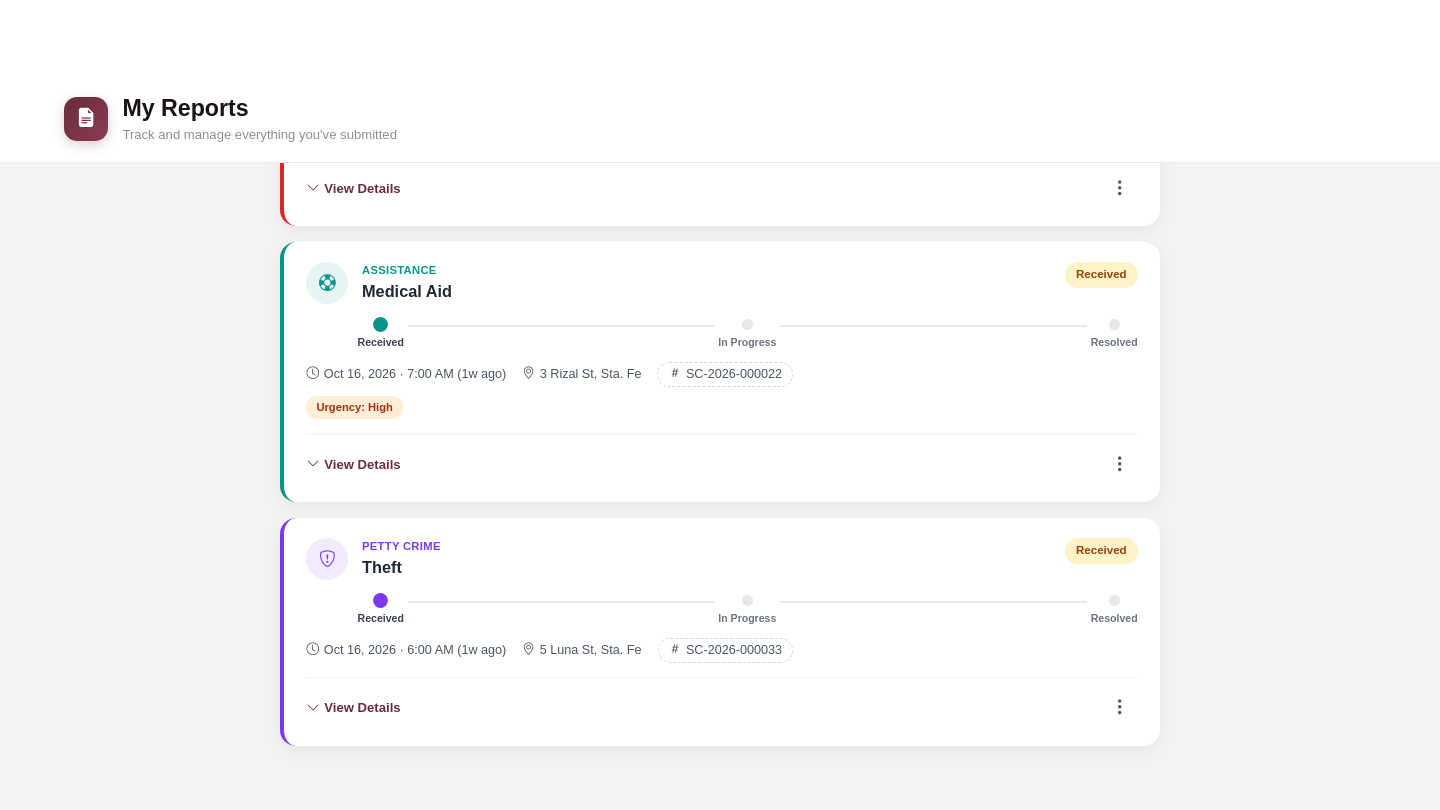
Three-dot menu › closes when clicking the button again, clicking outside, or pressing Esc
This screenshot has width=1440, height=810.
(page scrolled)
Click the 3rd button named "More options". click: (1120, 708)
box: x1=1102 y1=690 x2=1138 y2=726
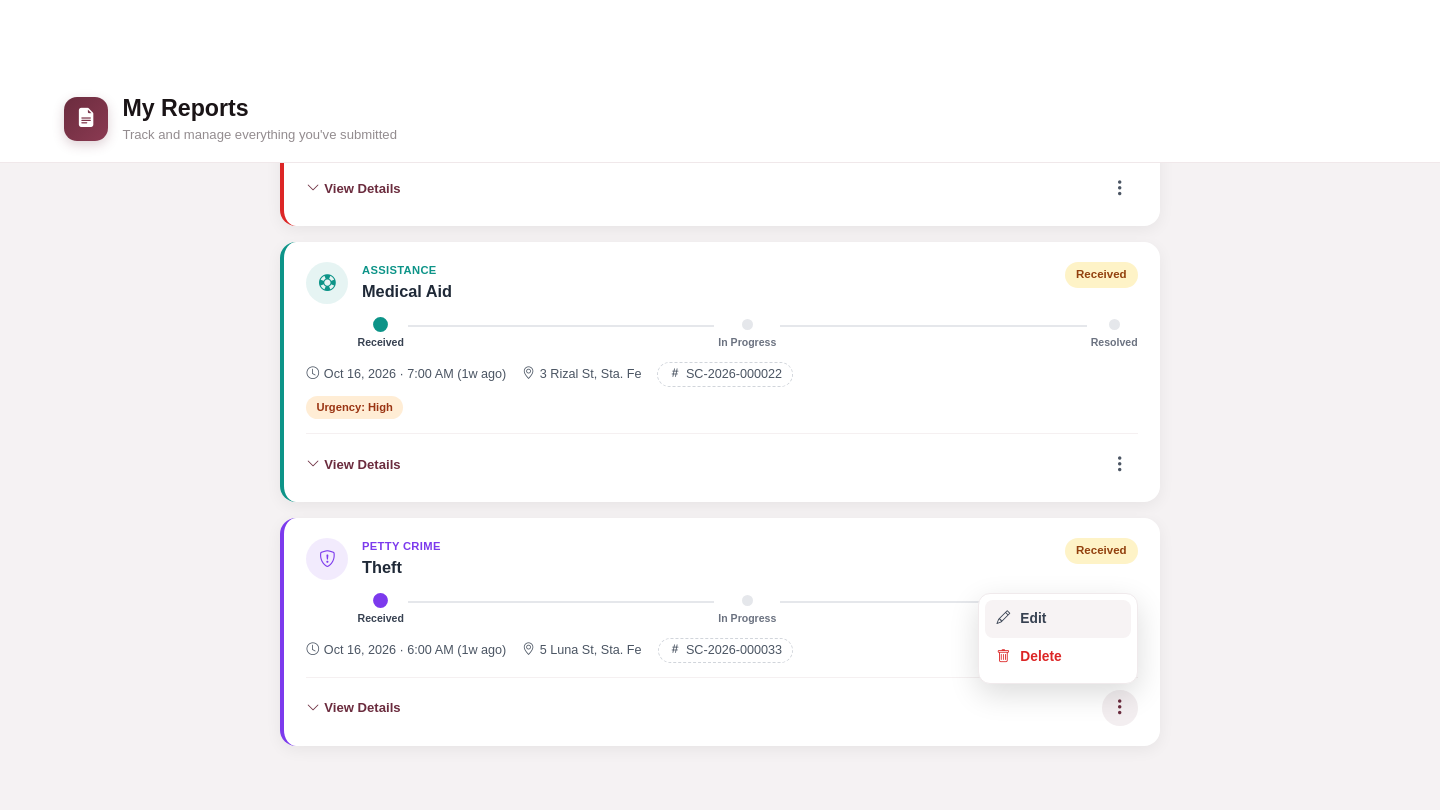
Click the 3rd button named "More options". click: (1120, 708)
box: x1=1102 y1=690 x2=1138 y2=726
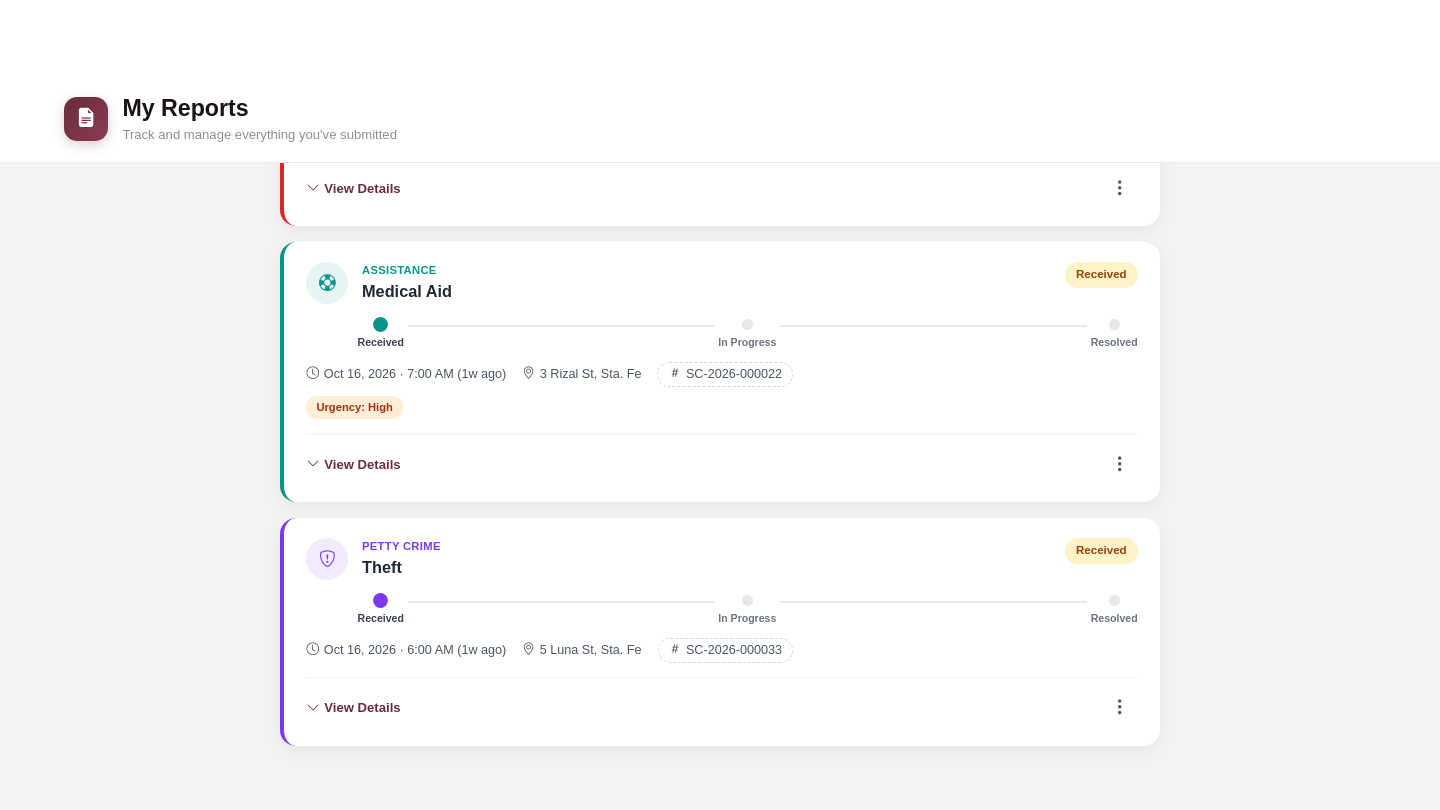
Expected: the menu is gone
Click the 3rd button named "More options". click: (1120, 708)
box: x1=1102 y1=690 x2=1138 y2=726
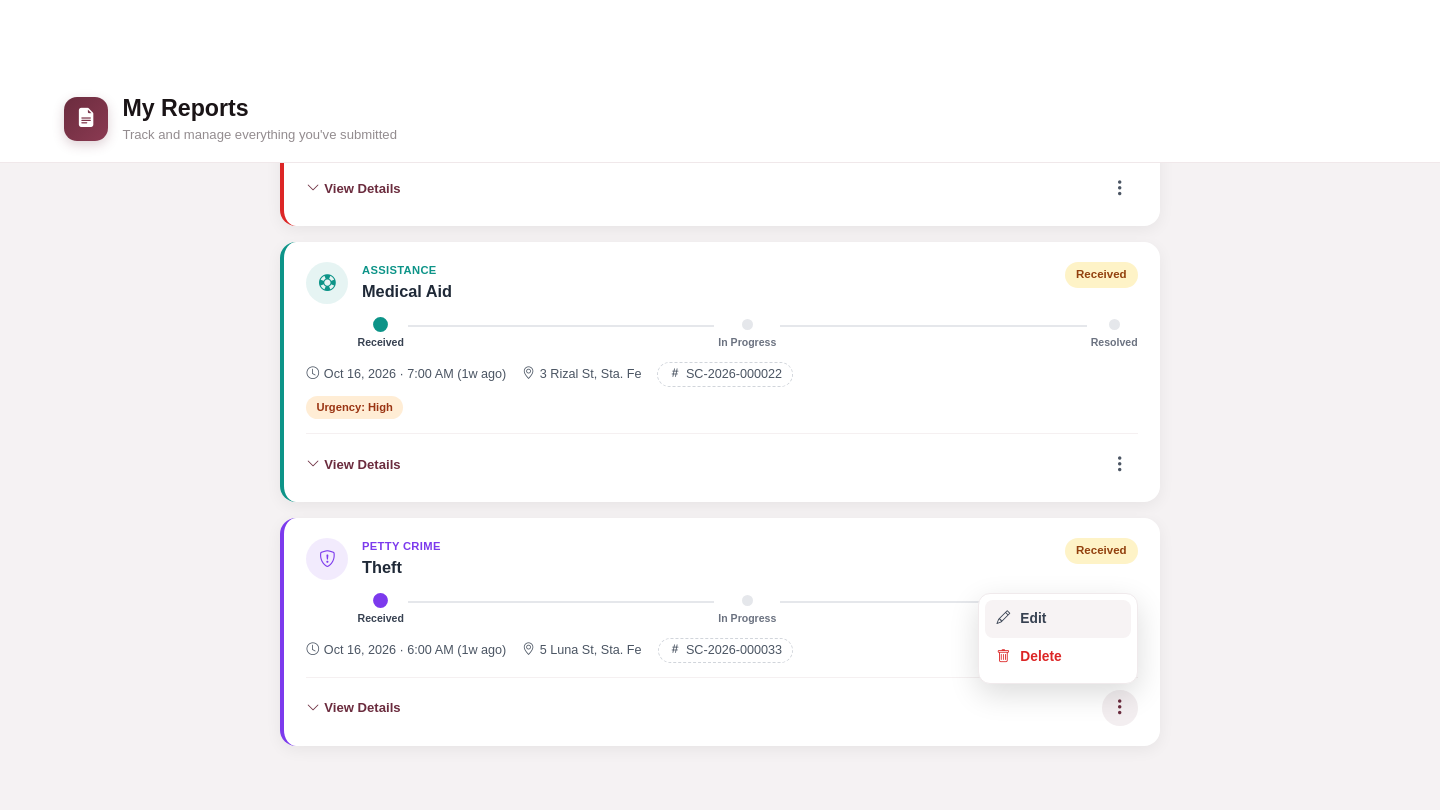
Press the mouse on the element with class "myreports-header" at (720, 120), box x1=0 y1=76 x2=1439 y2=163
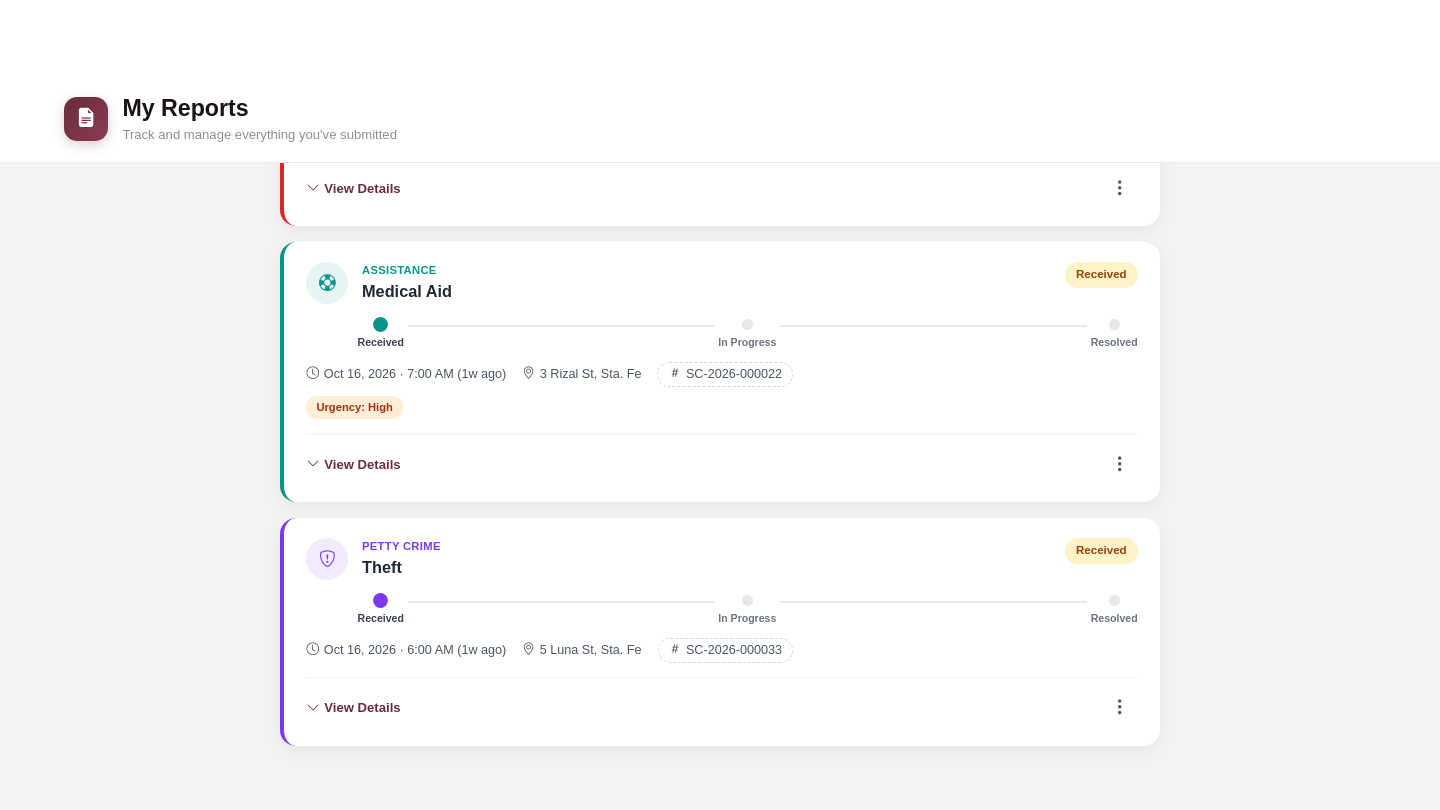
Expected: the menu is gone
Click the 3rd button named "More options". click: (1120, 708)
box: x1=1102 y1=690 x2=1138 y2=726
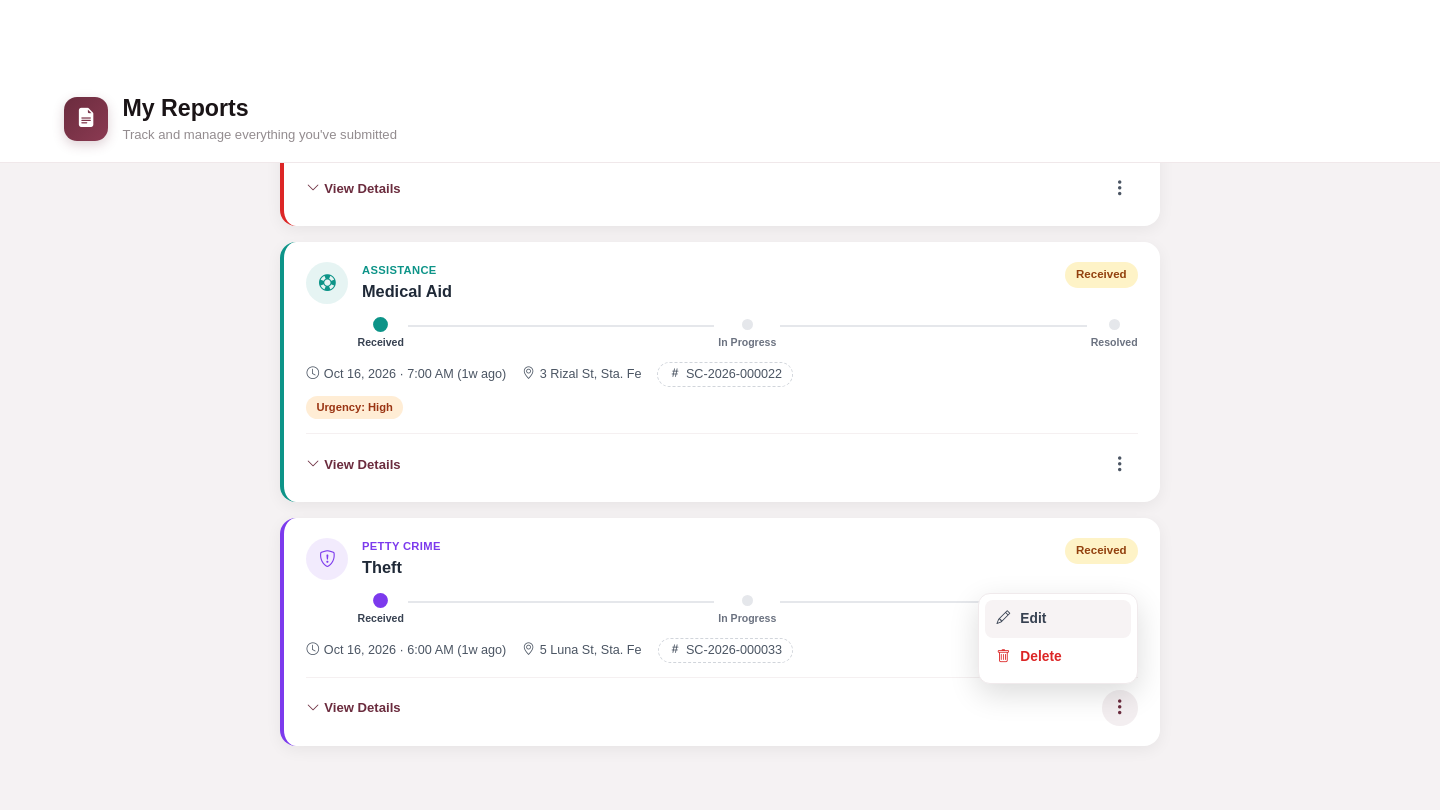
Press Escape
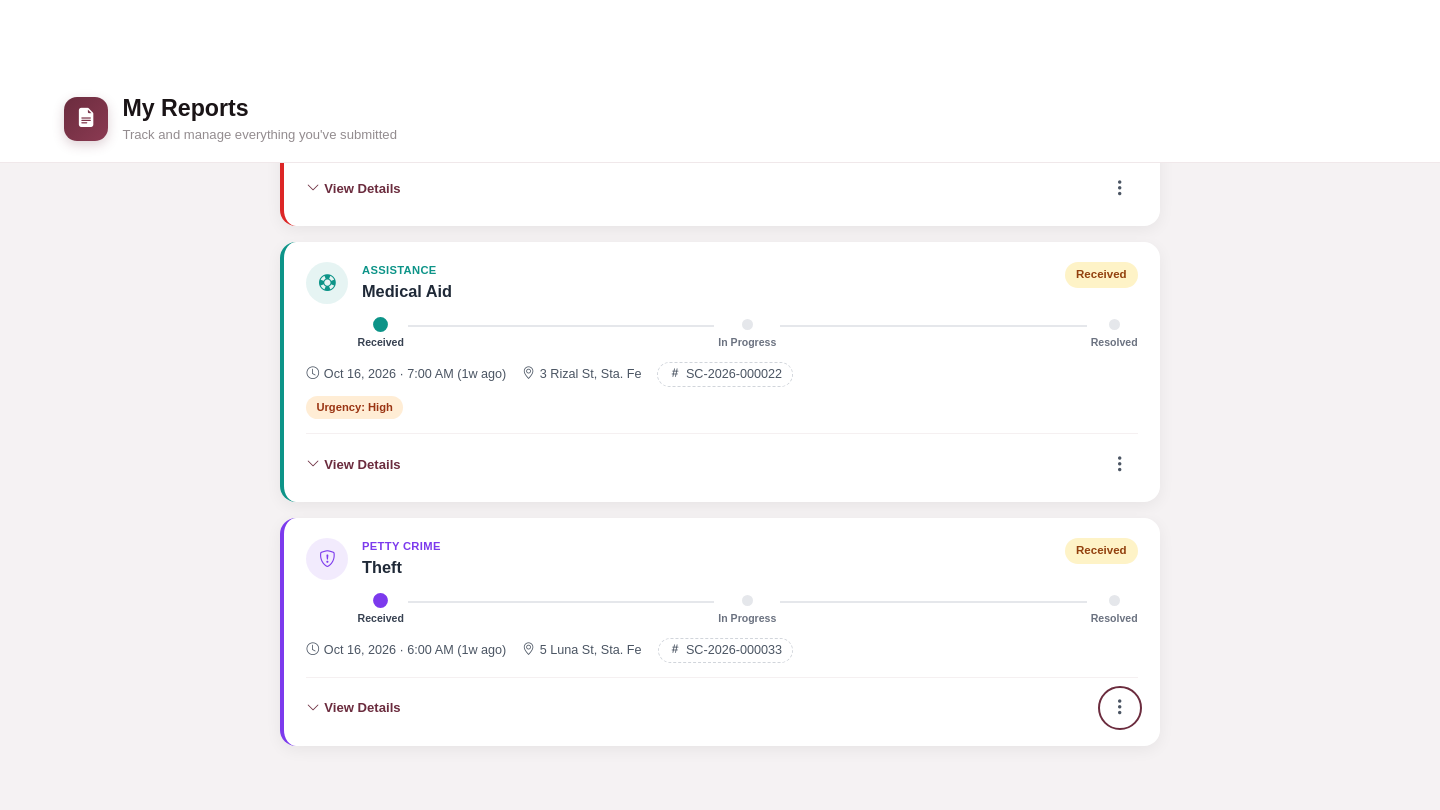
Expected: the menu is gone
